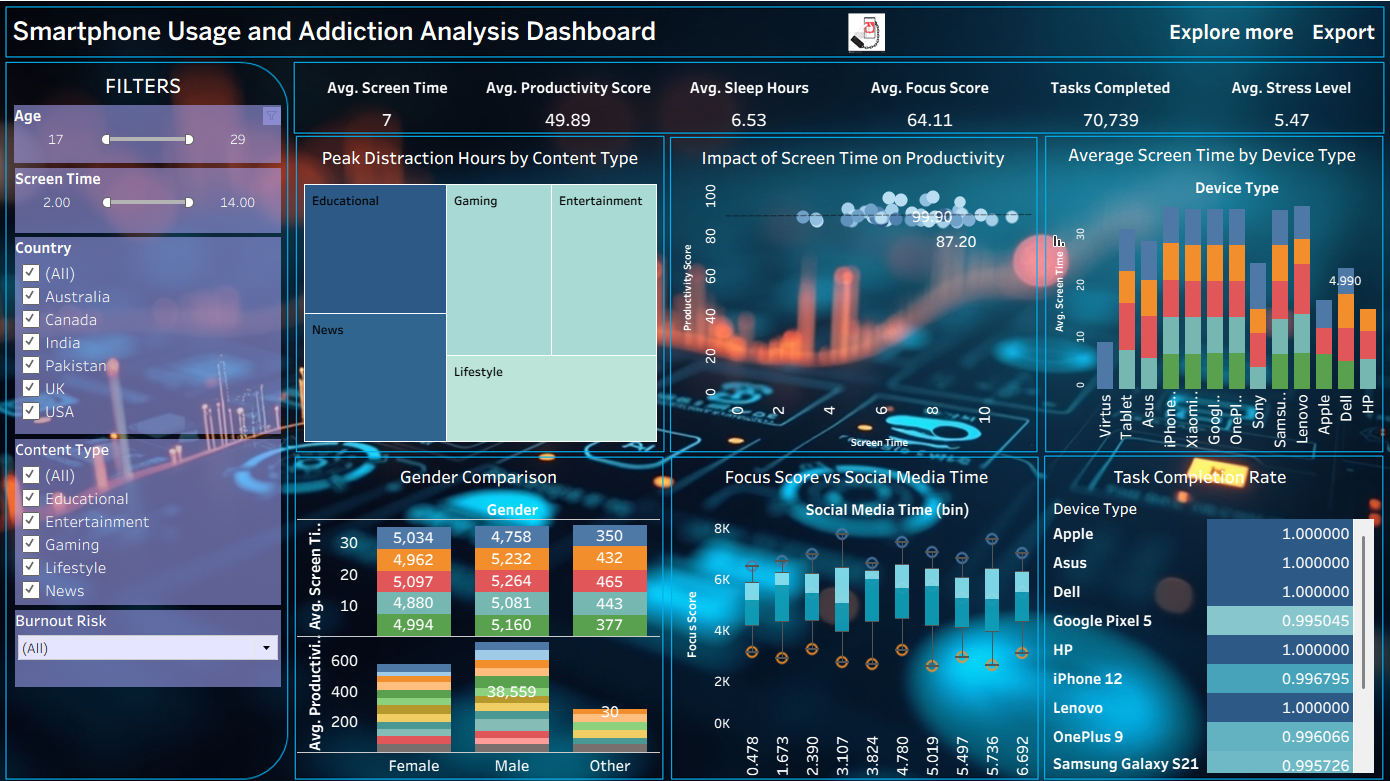

Layout of this report page (visuals, bound fields, positions):
{"tool":"tableau","page":{"name":"didgital_Addiction_and_productivity_dashboard (1)","canvas":[1400,800],"ordinal":0},"visuals":[{"type":"image","param":"Image/digital_addiction_bg_2.PNG","box":[0,0,1400,800]},{"type":"image","param":"Image/addiction.png","box":[847,20,49,40]},{"type":"dashboard-object","box":[1163,21,146,33]},{"type":"text","box":[14,23,651,30]},{"type":"worksheet","title":"KPI","mark":"Automatic","box":[302,74,1085,65]},{"type":"text","box":[98,77,100,30]},{"type":"filter","title":"Filters","param":"[federated.1l17ptl0z298e1154kmrq1arx611].[none:Age:qk]","box":[19,112,267,58]},{"type":"worksheet","title":"Average Screen Time by Device Type","mark":"Automatic","rows":["Screen Time"],"cols":["Device Type"],"box":[1050,145,334,311]},{"type":"worksheet","title":"Peak Distraction Hours by Content Type","mark":"Automatic","box":[305,148,360,308]},{"type":"worksheet","title":"Impact of Screen Time on Productivity","mark":"Circle","rows":["Productivity Score"],"cols":["Screen Time"],"box":[678,148,360,308]},{"type":"filter","title":"Filters","param":"[federated.1l17ptl0z298e1154kmrq1arx611].[none:Screen Time:qk]","box":[20,175,266,65]},{"type":"filter","title":"Filters","param":"[federated.1l17ptl0z298e1154kmrq1arx611].[none:Country:nk]","box":[20,244,266,197]},{"type":"worksheet","title":"Filters","mark":"Automatic","box":[931,292,84,37]},{"type":"filter","title":"Filters","param":"[federated.1l17ptl0z298e1154kmrq1arx611].[none:Content Type:nk]","box":[20,446,266,166]},{"type":"worksheet","title":"Gender Comparison","mark":"Automatic","rows":["Screen Time","Productivity Score"],"cols":["Gender"],"box":[302,467,363,318]},{"type":"worksheet","title":"Focus Score vs Social Media Time","mark":"Shape","rows":["Focus Score"],"cols":["Social Media Time (bin)"],"box":[681,467,361,317]},{"type":"worksheet","title":"Task Completion Rate","mark":"Square","rows":["Device Type"],"box":[1052,467,334,313]},{"type":"filter","title":"Filters","param":"[federated.1l17ptl0z298e1154kmrq1arx611].[none:Burnout Risk:nk]","box":[20,617,266,77]}]}

Visuals, with their boxes in screenshot pixels (x1, y1, x2, y2), scaled from the page's 1400x800 canvas onto the 1390x781 screenshot:
image: region(0, 0, 1389, 780)
image: region(841, 20, 890, 59)
dashboard-object: region(1155, 21, 1300, 53)
text: region(14, 22, 660, 52)
"KPI" worksheet: region(300, 72, 1377, 136)
text: region(97, 75, 197, 104)
"Filters" filter: region(19, 109, 284, 166)
"Average Screen Time by Device Type" worksheet: region(1042, 142, 1374, 445)
"Peak Distraction Hours by Content Type" worksheet: region(303, 144, 660, 445)
"Impact of Screen Time on Productivity" worksheet (Circle marks): region(673, 144, 1031, 445)
"Filters" filter: region(20, 171, 284, 234)
"Filters" filter: region(20, 238, 284, 431)
"Filters" worksheet: region(924, 285, 1008, 321)
"Filters" filter: region(20, 435, 284, 597)
"Gender Comparison" worksheet: region(300, 456, 660, 766)
"Focus Score vs Social Media Time" worksheet (Shape marks): region(676, 456, 1035, 765)
"Task Completion Rate" worksheet (Square marks): region(1044, 456, 1376, 761)
"Filters" filter: region(20, 602, 284, 678)
